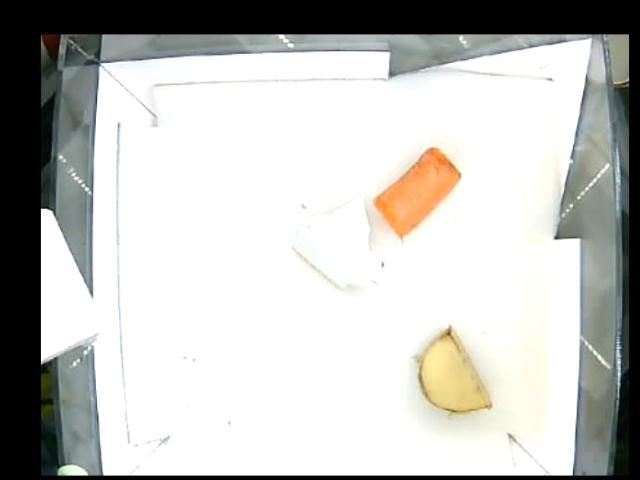Carrot: (377, 146, 462, 238)
China: (289, 196, 387, 296)
Potato: (419, 324, 496, 409)
